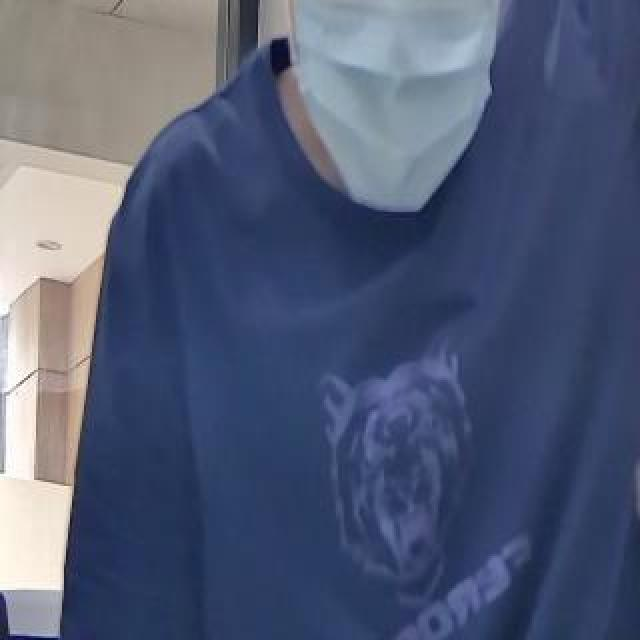Guns: (598, 0, 640, 586)
